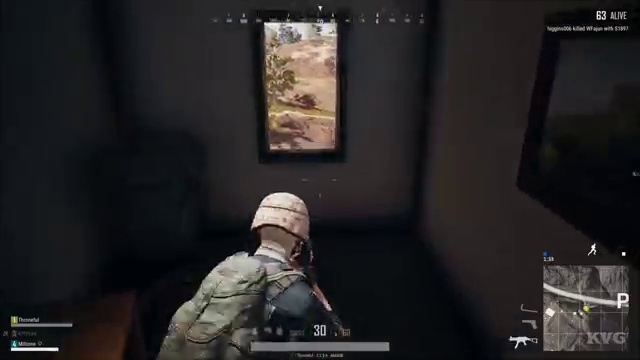Player: (167, 184, 411, 323)
